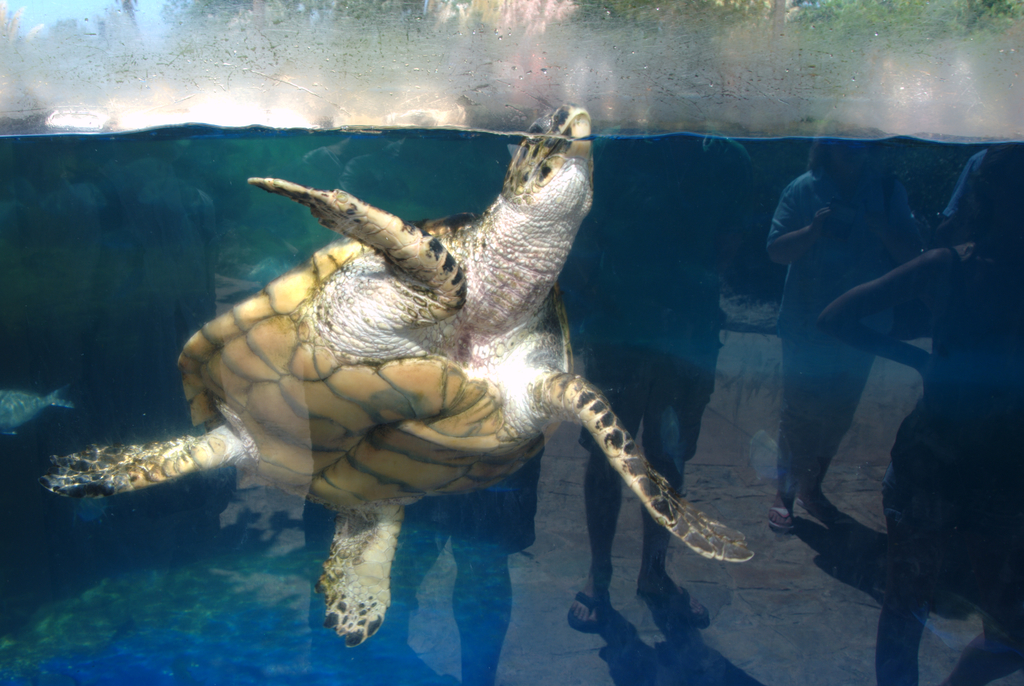Sea turtles: (36, 102, 755, 648)
